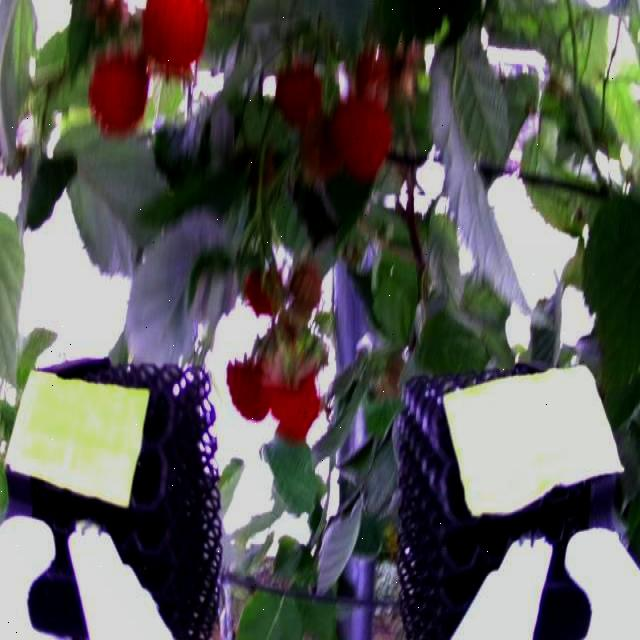Riped berries: (330, 95, 394, 187), (91, 47, 153, 126), (267, 356, 322, 438), (143, 0, 207, 70), (275, 61, 325, 126), (226, 348, 269, 422), (245, 265, 283, 321)
